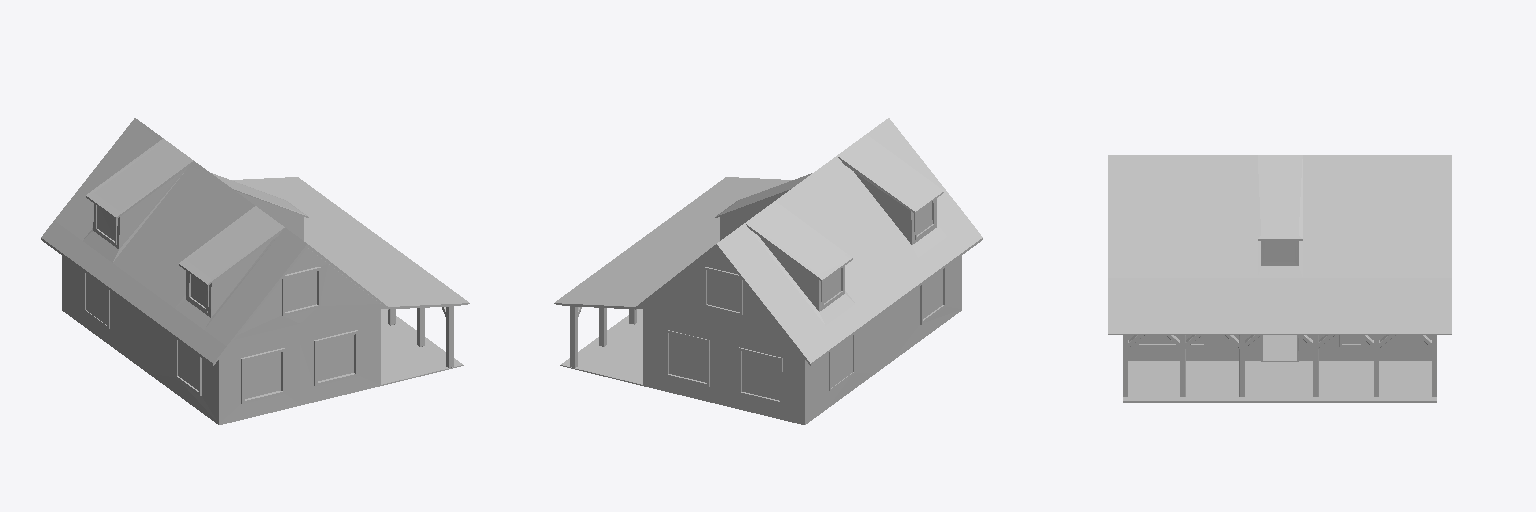
Rendered from casa.obj.
3 views of the same model, side by side, from view 1: azimuth 30°, elevation 25°; view 2: azimuth 150°, elevation 25°; view 3: azimuth 270°, elevation 25° (orthographic).
Visible parts, largest first — view 1: cottage; view 2: cottage; view 3: cottage.
Boxes of the visible parts, x1,y1,x2,y2 form: cottage: [41, 118, 469, 424]; cottage: [554, 118, 982, 424]; cottage: [1108, 155, 1451, 402].
Size of the model in its own units: 9.48 by 5.9 by 11.